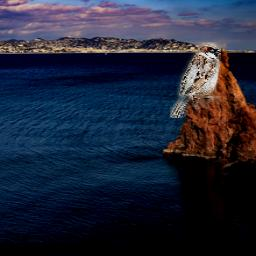Sparrow: (170, 42, 221, 118)
